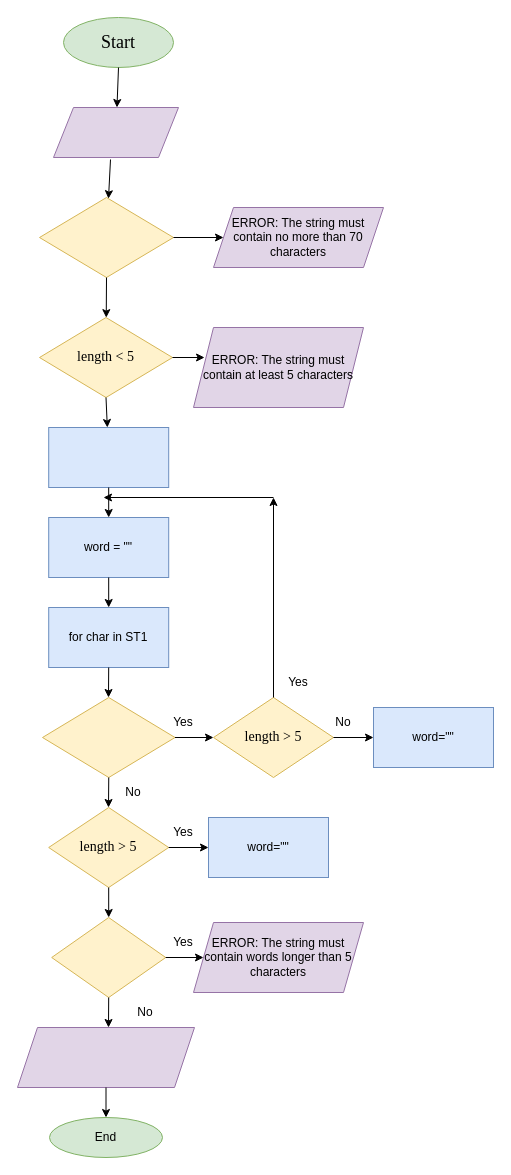
Some shapes in this 511 by 1175 pixel diagram are drawn without their labels. The centre of each missing label's shape, as x and y in pixels:
char == "": (108,737)
Input string to 70 symbols: (115,132)
length == 0: (108,957)
length > 70: (106,237)
Output Words longer than 5 characters: (105,1057)
words = []: (108,457)
